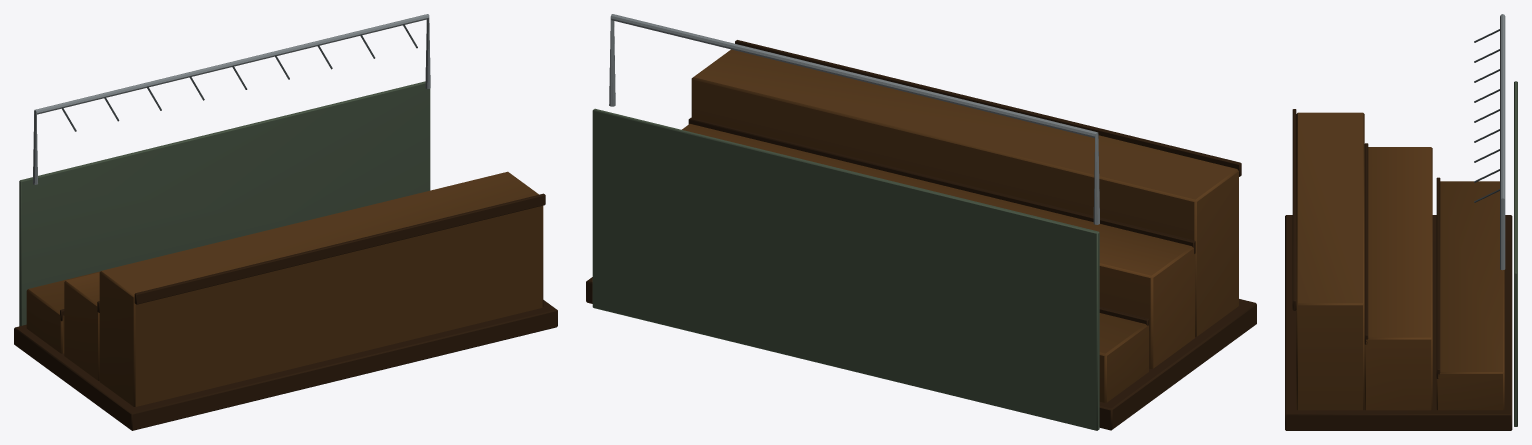
Rendered from mkt-produce-island.glb.
3 views of the same model, side by side, from view 1: azimuth 30°, elevation 25°; view 2: azimuth 150°, elevation 25°; view 3: azimuth 270°, elevation 25° (orthographic). The views are drawn at different scales.
Visible parts, largest first — view 1: tiers__wood, trim__paint, mist-pipe__steel; view 2: trim__paint, tiers__wood, mist-pipe__steel; view 3: tiers__wood, mist-pipe__steel, trim__paint.
Part boxes in pixels (left/top/right/bottom): tiers__wood: left=14, top=171, right=557, bottom=430; trim__paint: left=19, top=81, right=430, bottom=326; mist-pipe__steel: left=33, top=14, right=430, bottom=184; trim__paint: left=592, top=108, right=1099, bottom=430; tiers__wood: left=586, top=40, right=1256, bottom=430; mist-pipe__steel: left=609, top=14, right=1099, bottom=224; tiers__wood: left=1285, top=109, right=1512, bottom=430; mist-pipe__steel: left=1474, top=14, right=1505, bottom=270; trim__paint: left=1514, top=81, right=1517, bottom=426.
Size of the model in its own units: 2.5 by 1.31 by 1.23.
